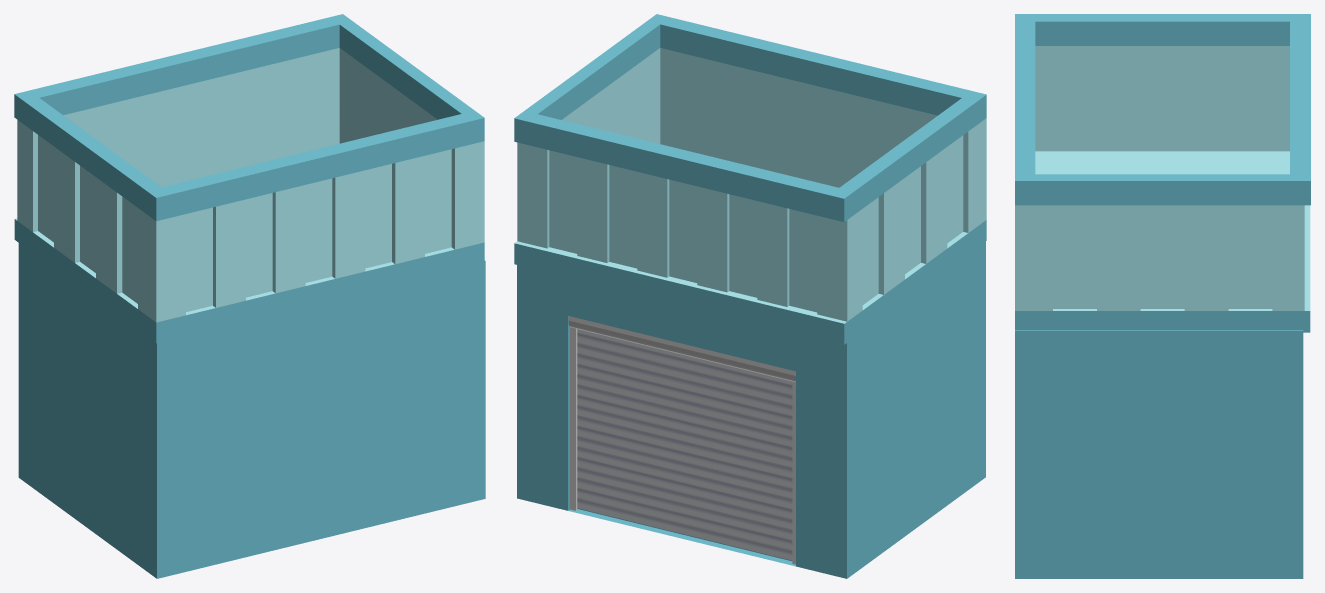
Rendered from closedsmallshop.fbx.
3 views of the same model, side by side, from view 1: azimuth 30°, elevation 25°; view 2: azimuth 150°, elevation 25°; view 3: azimuth 270°, elevation 25° (orthographic). The views are drawn at different scales.
Visible parts, largest first — view 1: Roof.003, closedsmallshop; view 2: Roof.003, closedsmallshop, Cube.371, Cube.365, Cube.363, Cube.370; view 3: Roof.003, closedsmallshop.
Part boxes in pixels (<box>): Roof.003: <box>14,14,484,343</box>; closedsmallshop: <box>18,243,485,578</box>; Roof.003: <box>514,14,986,344</box>; closedsmallshop: <box>517,241,985,578</box>; Cube.371: <box>577,329,792,560</box>; Cube.365: <box>568,316,795,382</box>; Cube.363: <box>570,327,577,510</box>; Cube.370: <box>792,381,795,564</box>; Roof.003: <box>1015,14,1310,332</box>; closedsmallshop: <box>1015,330,1303,578</box>.
Bounding box in the file's own units: 8.69 × 9.61 × 6.48.
